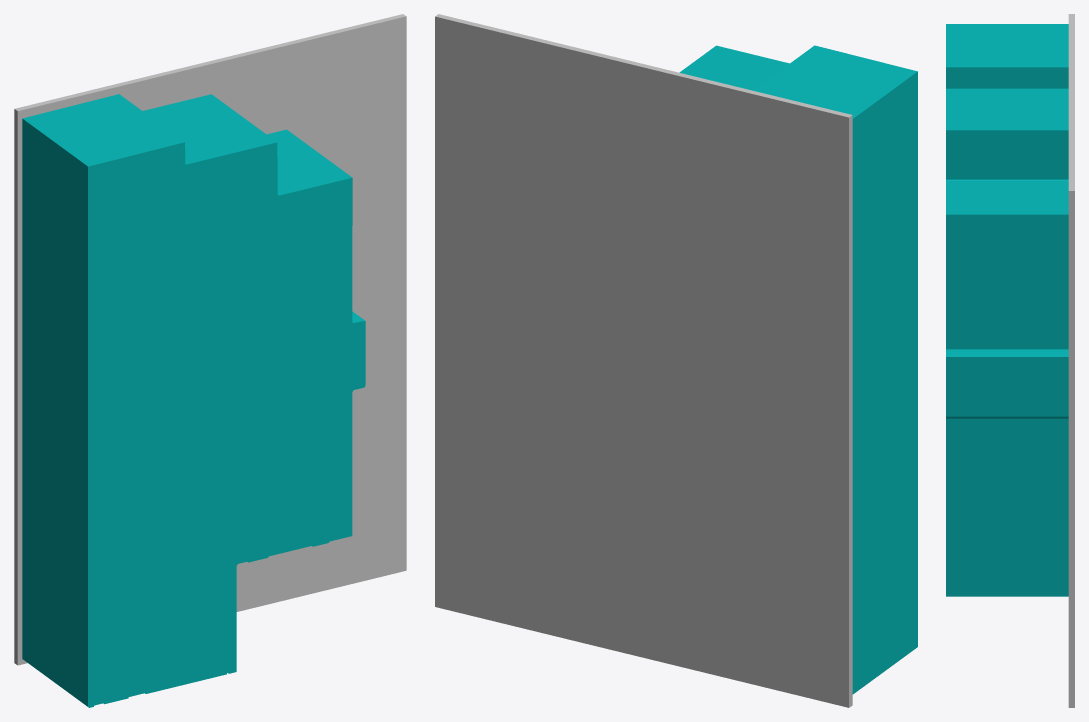
3 renders of one model, left to right at view 1: azimuth 30°, elevation 25°; view 2: azimuth 150°, elevation 25°; view 3: azimuth 270°, elevation 25°, orthographic. The views are drawn at different scales.
Visible parts, largest first — view 1: world; view 2: world; view 3: world.
Part boxes in pixels (x1=…): world: x1=14, y1=14, x2=406, y2=707; world: x1=435, y1=14, x2=917, y2=707; world: x1=946, y1=14, x2=1074, y2=707.
Bounding box in the file's own units: 10.23 × 13.94 × 3.15.
